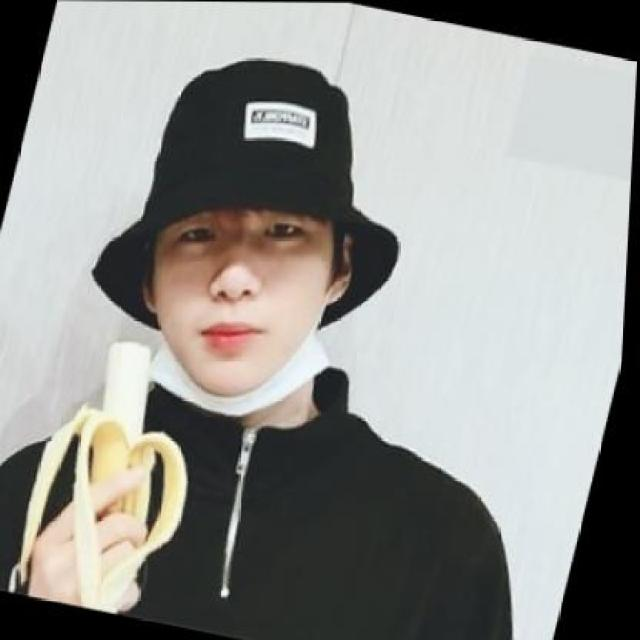hat: (94, 56, 400, 330)
